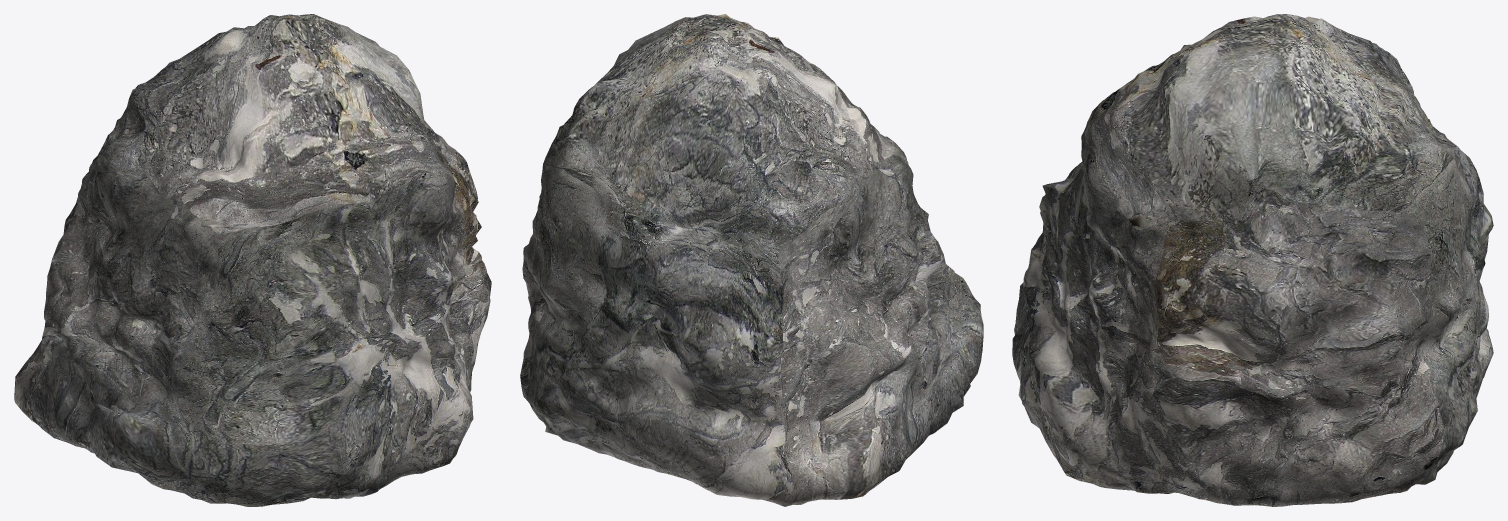
Rendered from Piedra 2.glb.
The picture shows the model from 3 angles, left to right: view 1: azimuth 30°, elevation 25°; view 2: azimuth 150°, elevation 25°; view 3: azimuth 270°, elevation 25°; orthographic projection. The views are drawn at different scales.
Parts seen in each view (by area): view 1: Piedra 2; view 2: Piedra 2; view 3: Piedra 2.
Boxes of the visible parts, <box> form: Piedra 2: <box>14,14,491,506</box>; Piedra 2: <box>520,14,983,506</box>; Piedra 2: <box>1012,14,1493,506</box>.
Bounding box in the file's own units: 2 × 1.95 × 1.98.
Materials: 1 (1 with a texture image).
